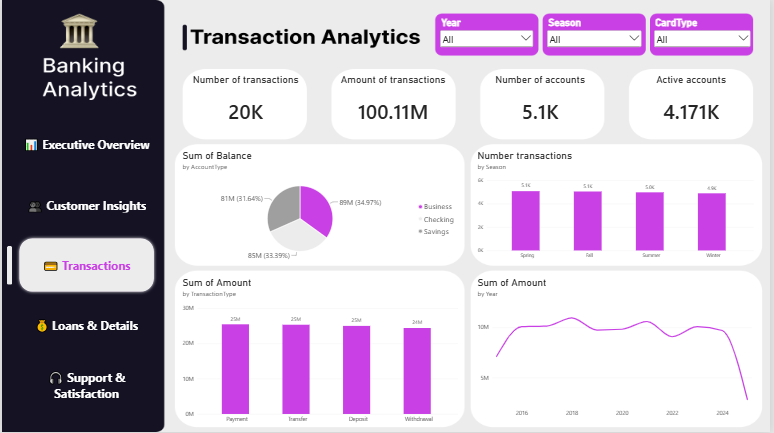

What the dashboard file says about the page in this screenshot:
{"tool":"powerbi","page":{"name":"Transaction_page","canvas":[1920,1080],"ordinal":2},"visuals":[{"type":"cardVisual","title":"Number of transactions","fields":{"Data":["Overview_measure.Number transactions"]},"box":[468,182,284,142],"z":0},{"type":"cardVisual","title":"Amount of transactions","fields":{"Data":["Overview_measure.amount transaction"]},"box":[826,182,306,142],"z":1000},{"type":"cardVisual","title":"Number of accounts ","fields":{"Data":["Customer measure (2).no.account"]},"box":[1192.9,181.4,306,142],"z":2000},{"type":"cardVisual","title":"Active accounts","fields":{"Data":["Customer measure (2).Active Accounts"]},"box":[1570,181.4,306,142],"z":3000},{"type":"columnChart","fields":{"Category":["Transactions.TransactionType"],"Y":["Sum(Transactions.Amount)"]},"box":[434.3,678.6,721.4,401.4],"z":4000},{"type":"columnChart","fields":{"Category":["Transactions.Season"],"Y":["Overview_measure.Number transactions"]},"box":[1172.9,360,722.9,307.1],"z":5000},{"type":"pieChart","fields":{"Category":["Accounts.AccountType"],"Y":["Sum(Accounts.Balance)"]},"box":[434.3,360,721.4,307.1],"z":6000},{"type":"lineChart","fields":{"Category":["Calender.Date.Variation.Date Hierarchy.Year","Calender.Date.Variation.Date Hierarchy.Month"],"Y":["Sum(Transactions.Amount)"]},"box":[1172.9,678.6,722.9,385.7],"z":7000},{"type":"shape","box":[34.3,285.7,352.9,150],"z":8000},{"type":"shape","box":[34.3,437.1,352.9,150],"z":9000},{"type":"shape","box":[34.3,587.1,352.9,150],"z":10000},{"type":"shape","box":[34.3,737.1,352.9,150],"z":11000},{"type":"shape","box":[34.3,887.1,352.9,150],"z":12000},{"type":"shape","box":[11.2,613.8,12.9,97.1],"z":13000},{"type":"slicer","fields":{"Values":["Accounts.CreatedDate.Variation.Date Hierarchy.Year"]},"box":[1090,40,242.5,90],"z":13001},{"type":"slicer","fields":{"Values":["Transactions.Season"]},"box":[1357.1,40,245.7,90],"z":13002},{"type":"slicer","fields":{"Values":["Cards.CardType"]},"box":[1624.3,40,251.4,90],"z":13003}]}

Visuals, with their boxes on the page's 1920x1080 design canvas (x1, y1, x2, y2). These are canvas units, not pixel positions in the 774x433 screenshot, which may show the page scaled, cropped or inside an application window:
"Number of transactions" cardVisual: bbox=[468, 182, 752, 324]
"Amount of transactions" cardVisual: bbox=[826, 182, 1132, 324]
"Number of accounts " cardVisual: bbox=[1193, 181, 1499, 323]
"Active accounts" cardVisual: bbox=[1570, 181, 1876, 323]
columnChart - Transactions.TransactionType x Sum(Transactions.Amount): bbox=[434, 679, 1156, 1080]
columnChart - Transactions.Season x Overview_measure.Number transactions: bbox=[1173, 360, 1896, 667]
pieChart - Accounts.AccountType x Sum(Accounts.Balance): bbox=[434, 360, 1156, 667]
lineChart - Calender.Date.Variation.Date Hierarchy.Year x Calender.Date.Variation.Date Hierarchy.Month: bbox=[1173, 679, 1896, 1064]
shape: bbox=[34, 286, 387, 436]
shape: bbox=[34, 437, 387, 587]
shape: bbox=[34, 587, 387, 737]
shape: bbox=[34, 737, 387, 887]
shape: bbox=[34, 887, 387, 1037]
shape: bbox=[11, 614, 24, 711]
slicer - Accounts.CreatedDate.Variation.Date Hierarchy.Year: bbox=[1090, 40, 1332, 130]
slicer - Transactions.Season: bbox=[1357, 40, 1603, 130]
slicer - Cards.CardType: bbox=[1624, 40, 1876, 130]
